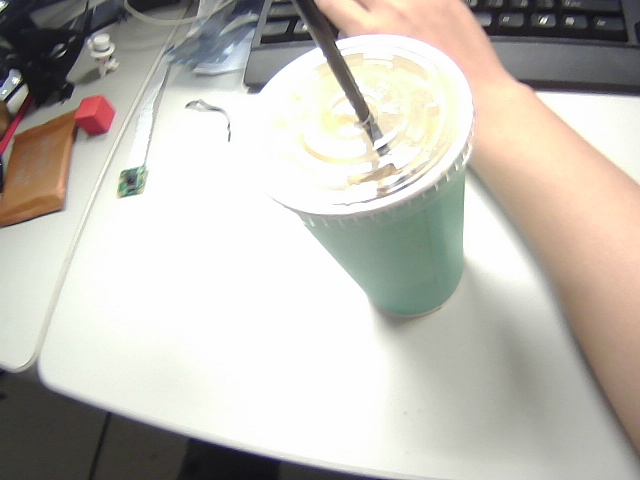beverage: (234, 2, 506, 351)
